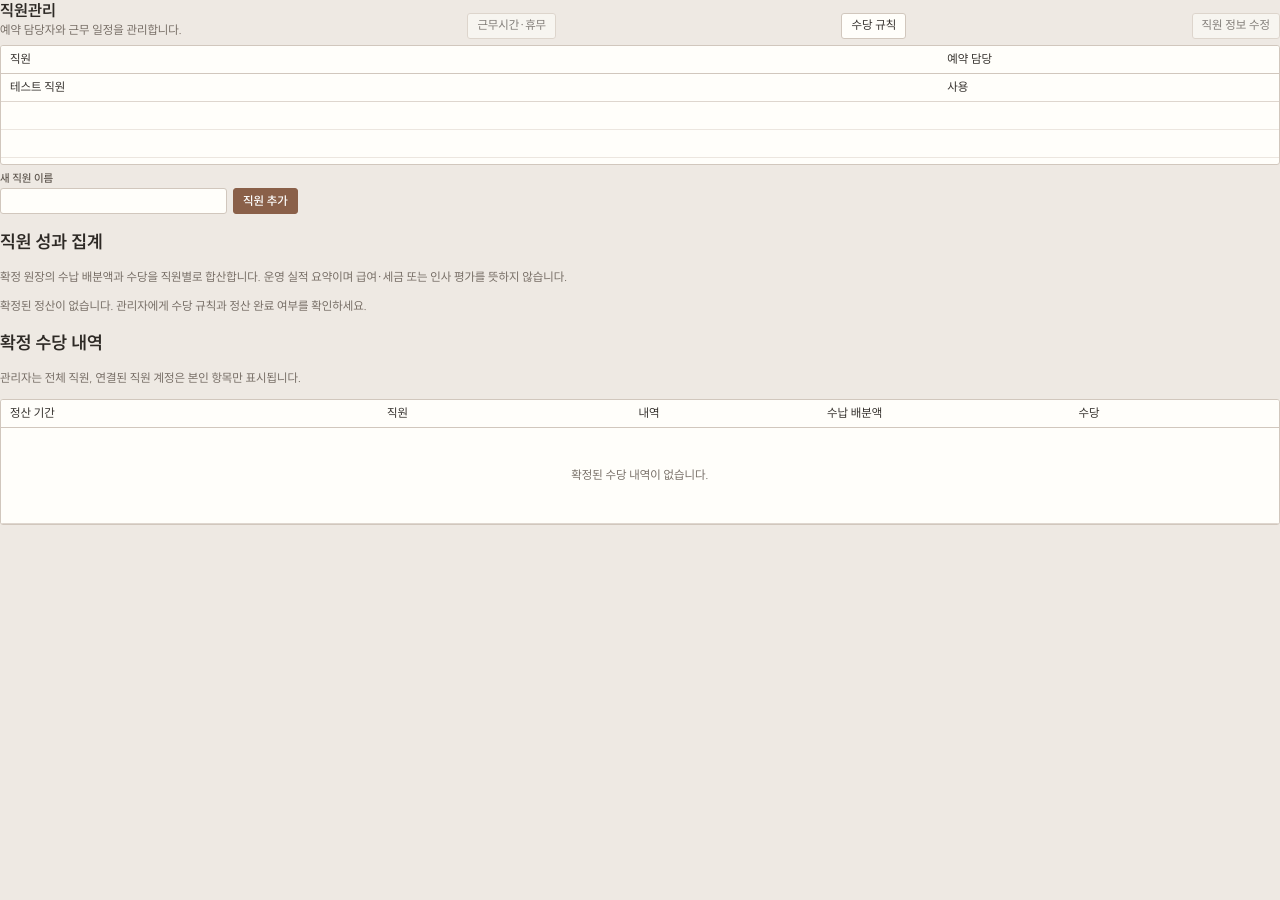
직원 선택 후 정보 수정 팝업을 연다
What coordinates should you click on to do the following:
click the text "테스트 직원"
I would click on:
 (470, 88)
Its box is [1, 74, 938, 102].
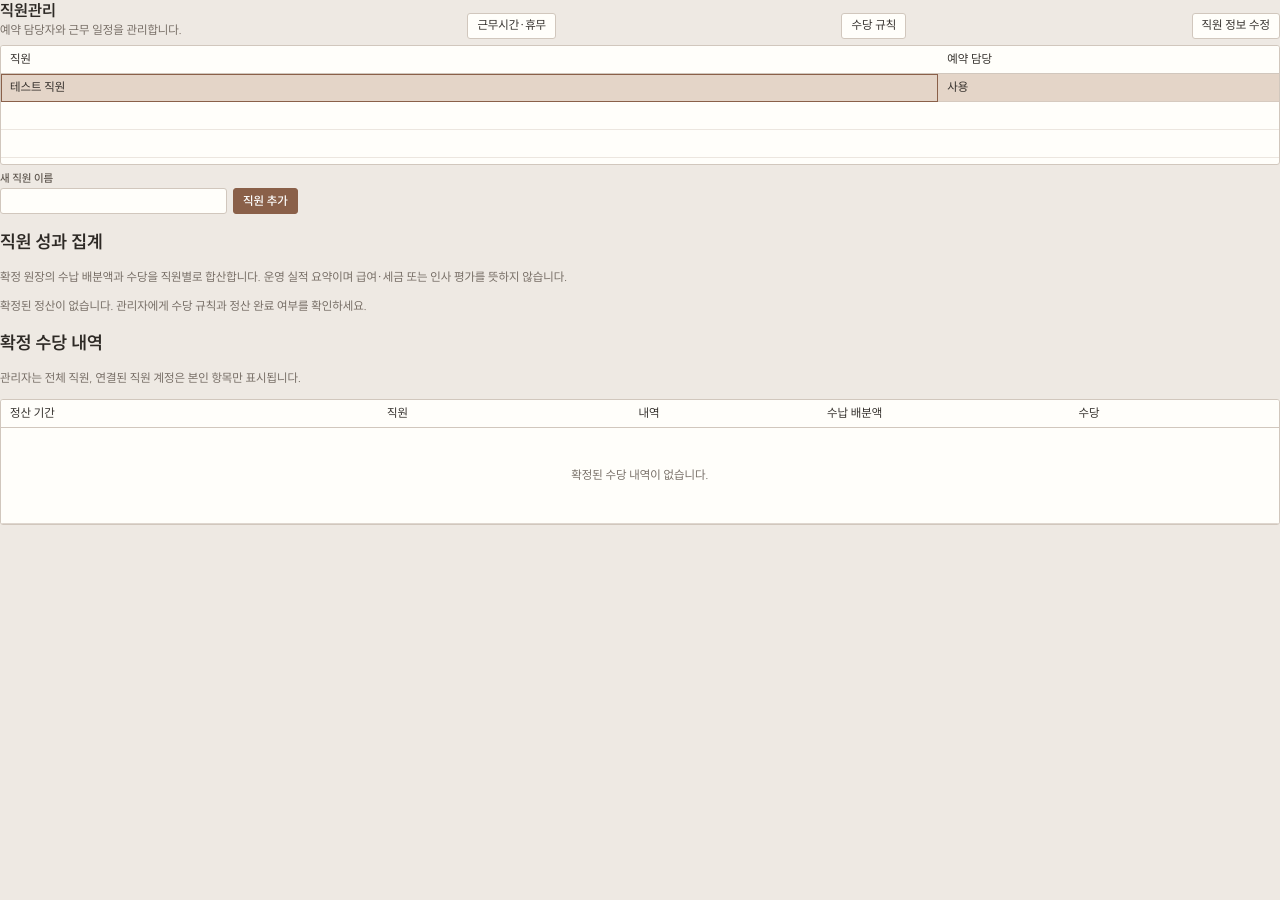
What coordinates should you click on to do the following:
click the button "직원 정보 수정"
I would click on:
 (1236, 26)
Its box is [1192, 13, 1279, 39].
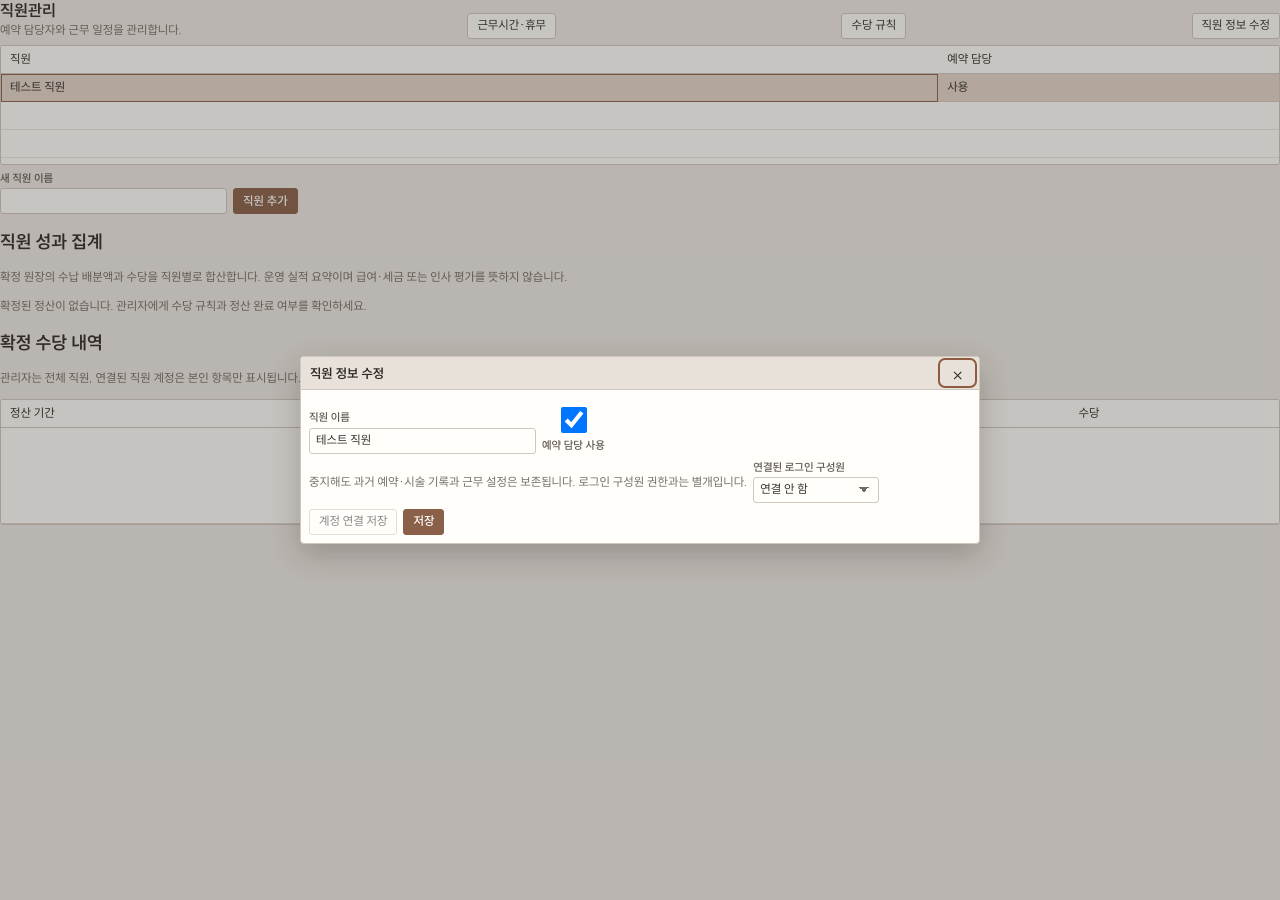
Now the field labelled "직원 이름" holds "테스트 직원", box [309, 428, 536, 454]
